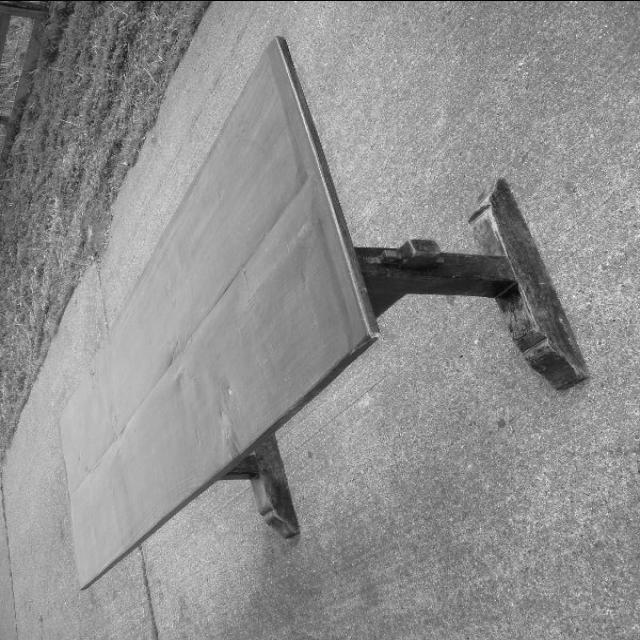table: (59, 35, 588, 602)
